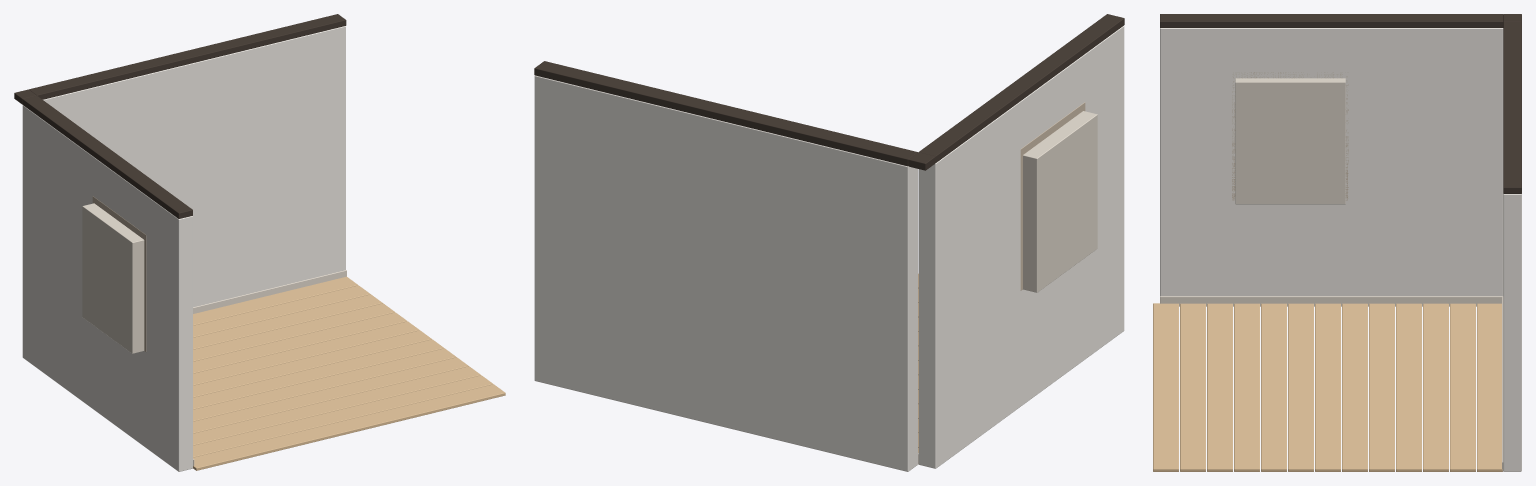
The model's file is cs-01-corner-shell.glb.
3 views of the same model, side by side, from view 1: azimuth 30°, elevation 25°; view 2: azimuth 150°, elevation 25°; view 3: azimuth 270°, elevation 25° (orthographic). The views are drawn at different scales.
Parts seen in each view (by area): view 1: cs-01-corner-shell; view 2: cs-01-corner-shell; view 3: cs-01-corner-shell.
Part boxes in pixels (x1,y1,x2,y2): cs-01-corner-shell: (14,14,505,471); cs-01-corner-shell: (534,14,1124,471); cs-01-corner-shell: (1153,14,1521,471).
Size of the model in its own units: 3.06 by 2.25 by 2.64.
